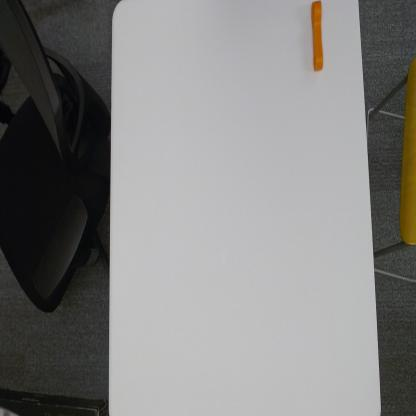Screwdriver: (309, 0, 326, 74)
